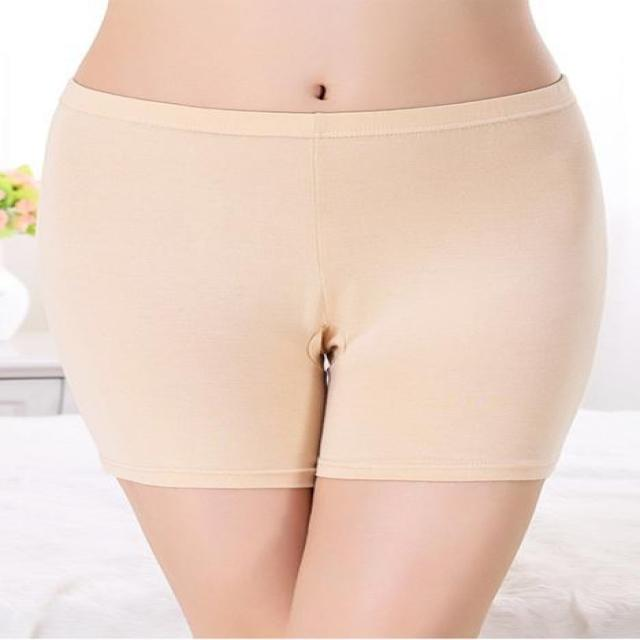shorts: (43, 64, 598, 564)
